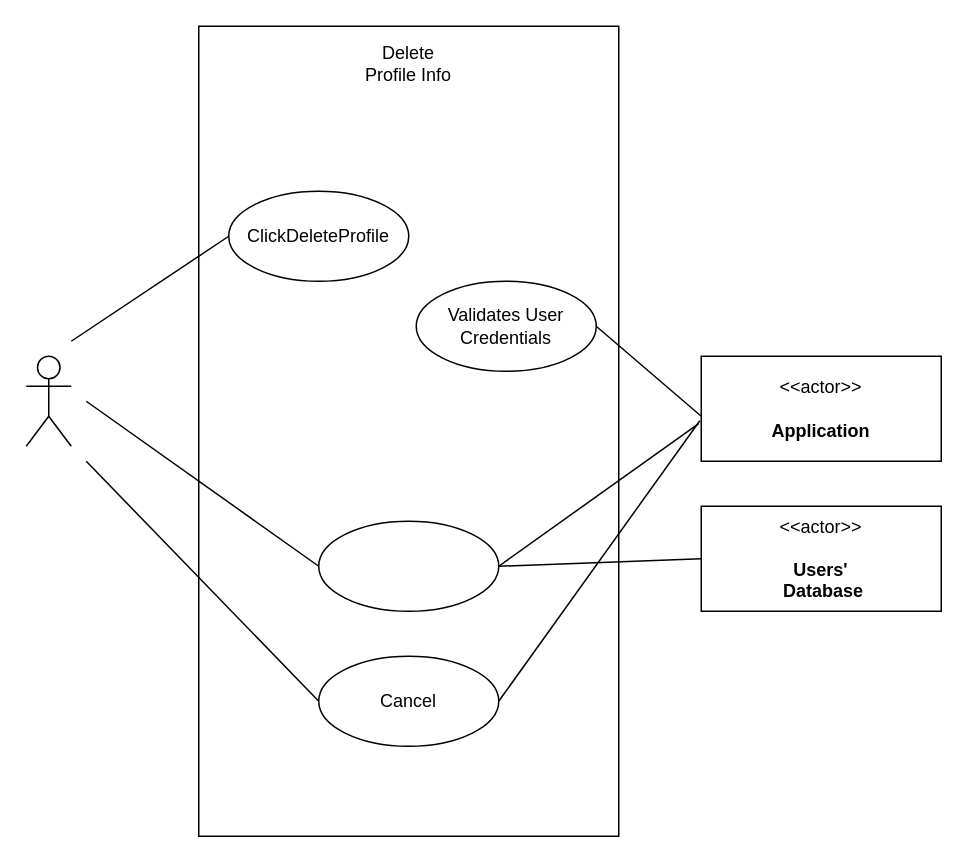
This 968x863 diagram has some shape labels left out. Each missing label, with the centre of its shape:
Delete Profile: the point at 408,565
User: the point at 48,400
